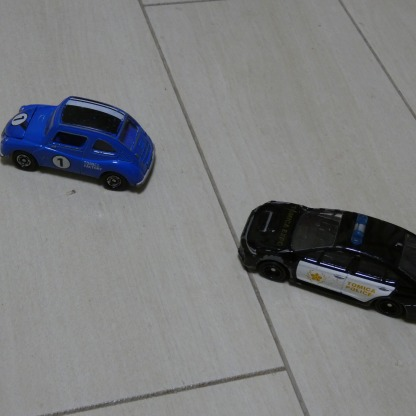car: (237, 199, 416, 326), (0, 94, 159, 199)
